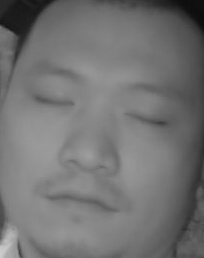blink: (31, 84, 77, 115), (125, 105, 166, 134)
mouth: (47, 180, 118, 220)
